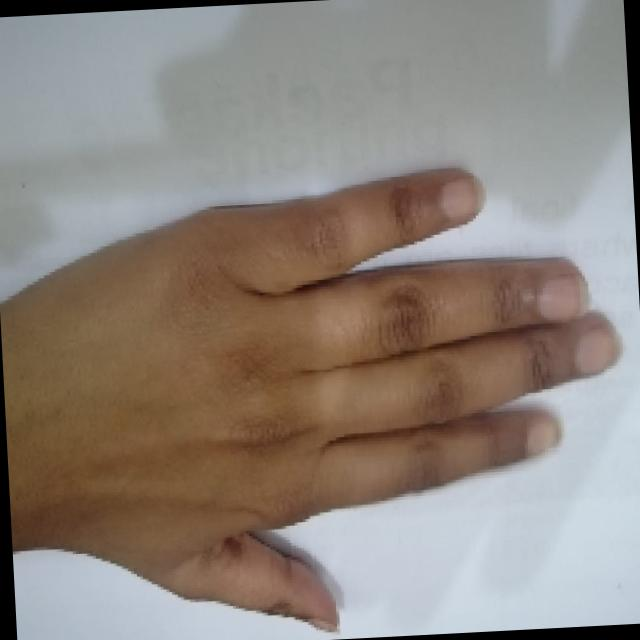Nail: (539, 275, 591, 319), (574, 325, 617, 372), (437, 176, 484, 217), (524, 421, 561, 454), (303, 618, 336, 633)
